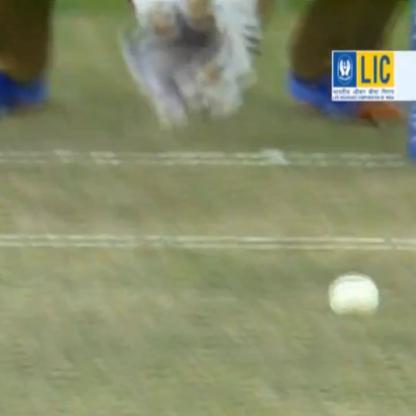ball: (322, 266, 386, 323)
